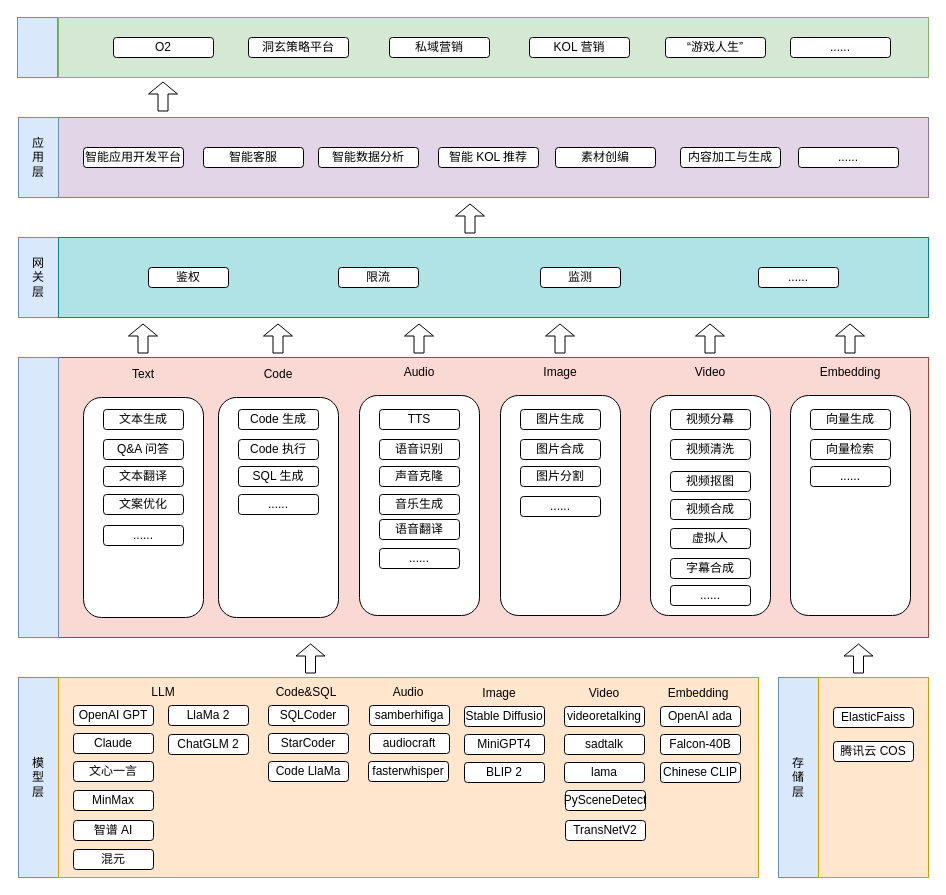
This 946x895 diagram has some shape labels left out. The centre of each missing label's shape, as x and y in pixels:
业 务 层: the point at 37,47
能 力 层: the point at 38,497
